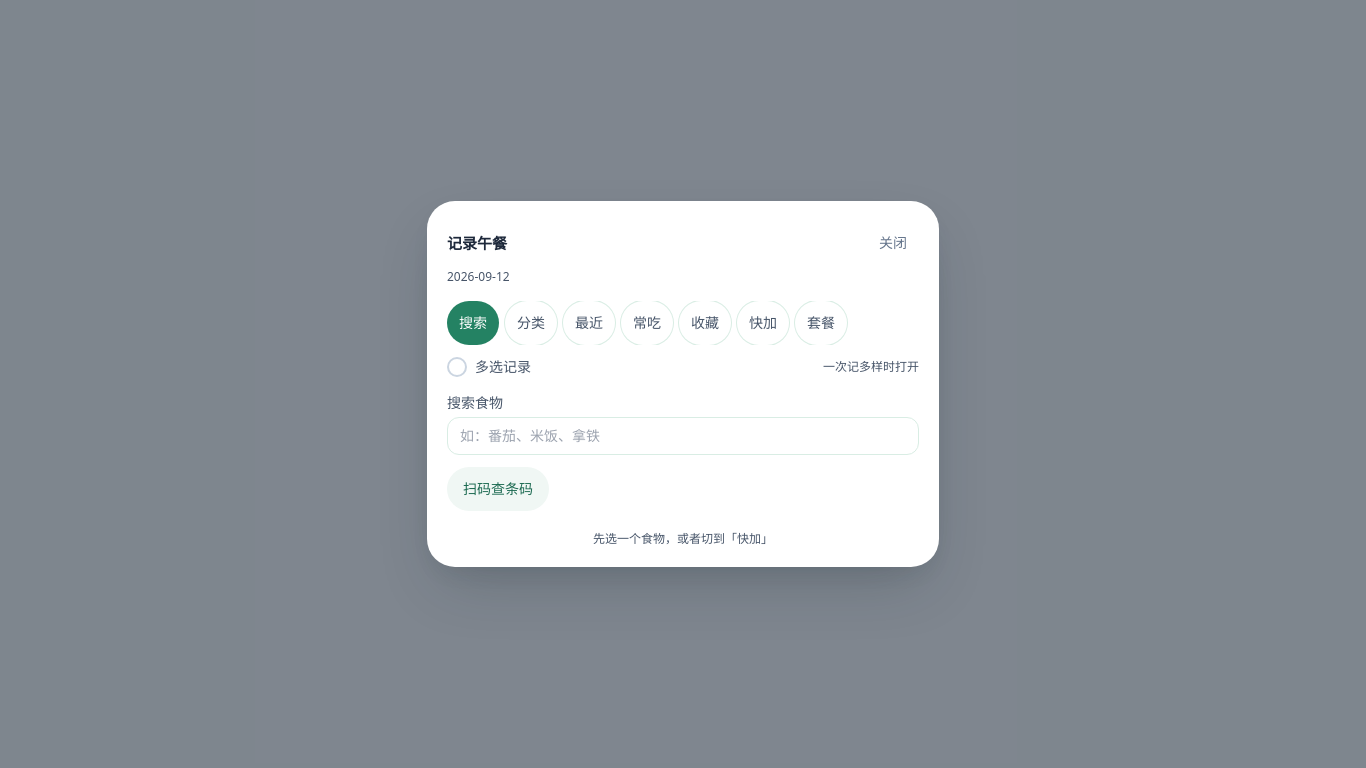
Test: R11.5+ 常吃榜「上次食用日期」透传（core 已算好，UI 只接线） › ★ 日期行不是独立控件：行内仍是**一个**按钮，没有嵌套 button
Click the tab "常吃".
click(647, 323)  # box [621,301,673,345]
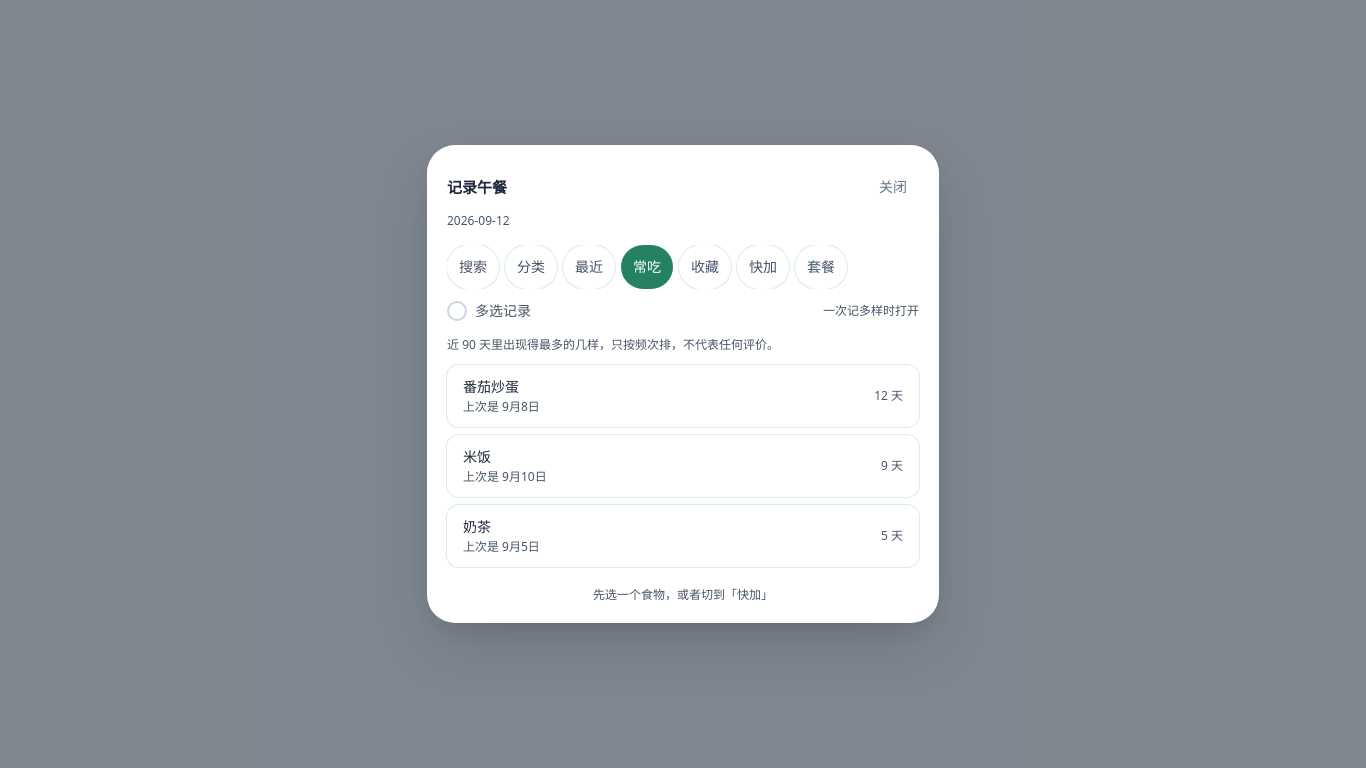
Result: the text "番茄炒蛋" is shown at [463,377,519,396]
Result: the button "番茄炒蛋 上次是 9月8日 12 天" is shown
Click the button "番茄炒蛋 上次是 9月8日 12 天".
click(491, 386)  # box [447,365,919,427]
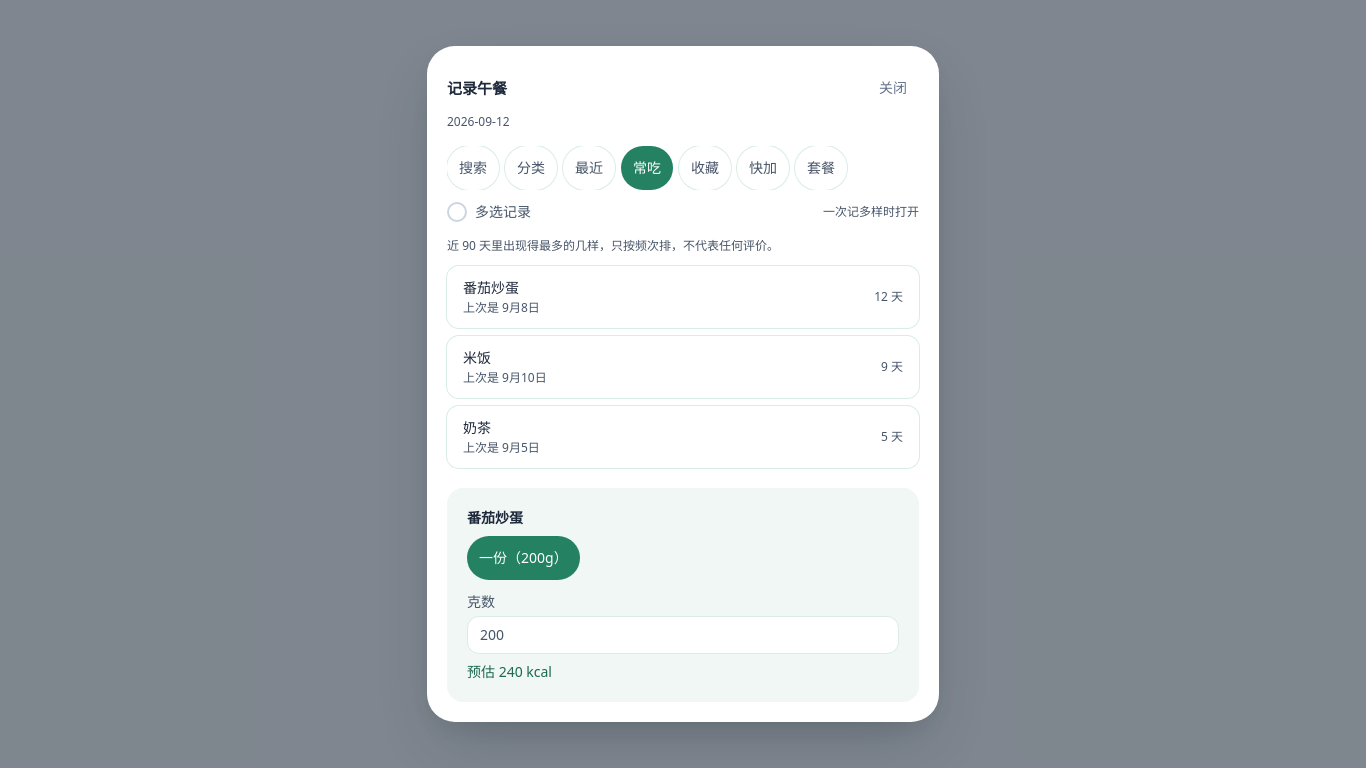
Result: the element named "选择份量" is shown at [447,488,919,702]
